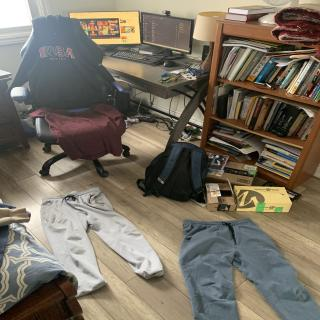Blue Sweatpants: (179, 215, 316, 320)
HOSA hoodie: (30, 15, 99, 106)
Maroon T-Shirt: (28, 107, 129, 160)
White Sweatpants: (36, 185, 168, 290)
